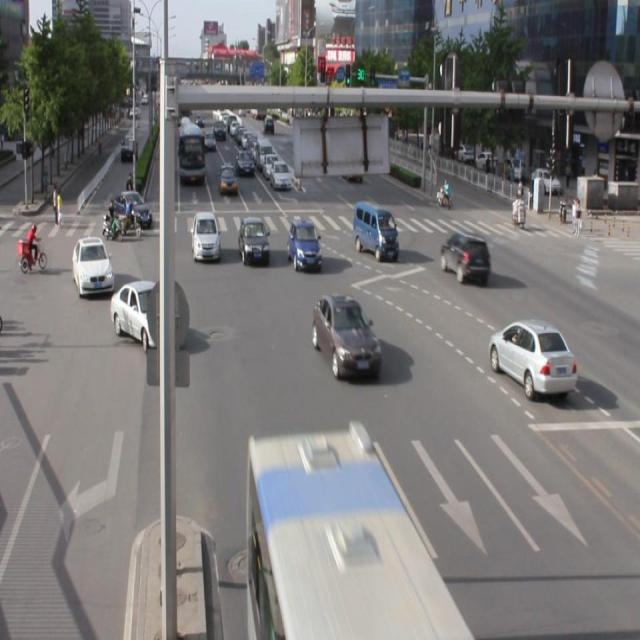car: (489, 316, 576, 397), (312, 292, 380, 376), (109, 278, 180, 350), (440, 228, 490, 283), (288, 216, 322, 270), (238, 213, 269, 263), (191, 210, 221, 260)
truck: (353, 200, 398, 259)
van: (247, 434, 469, 640)
